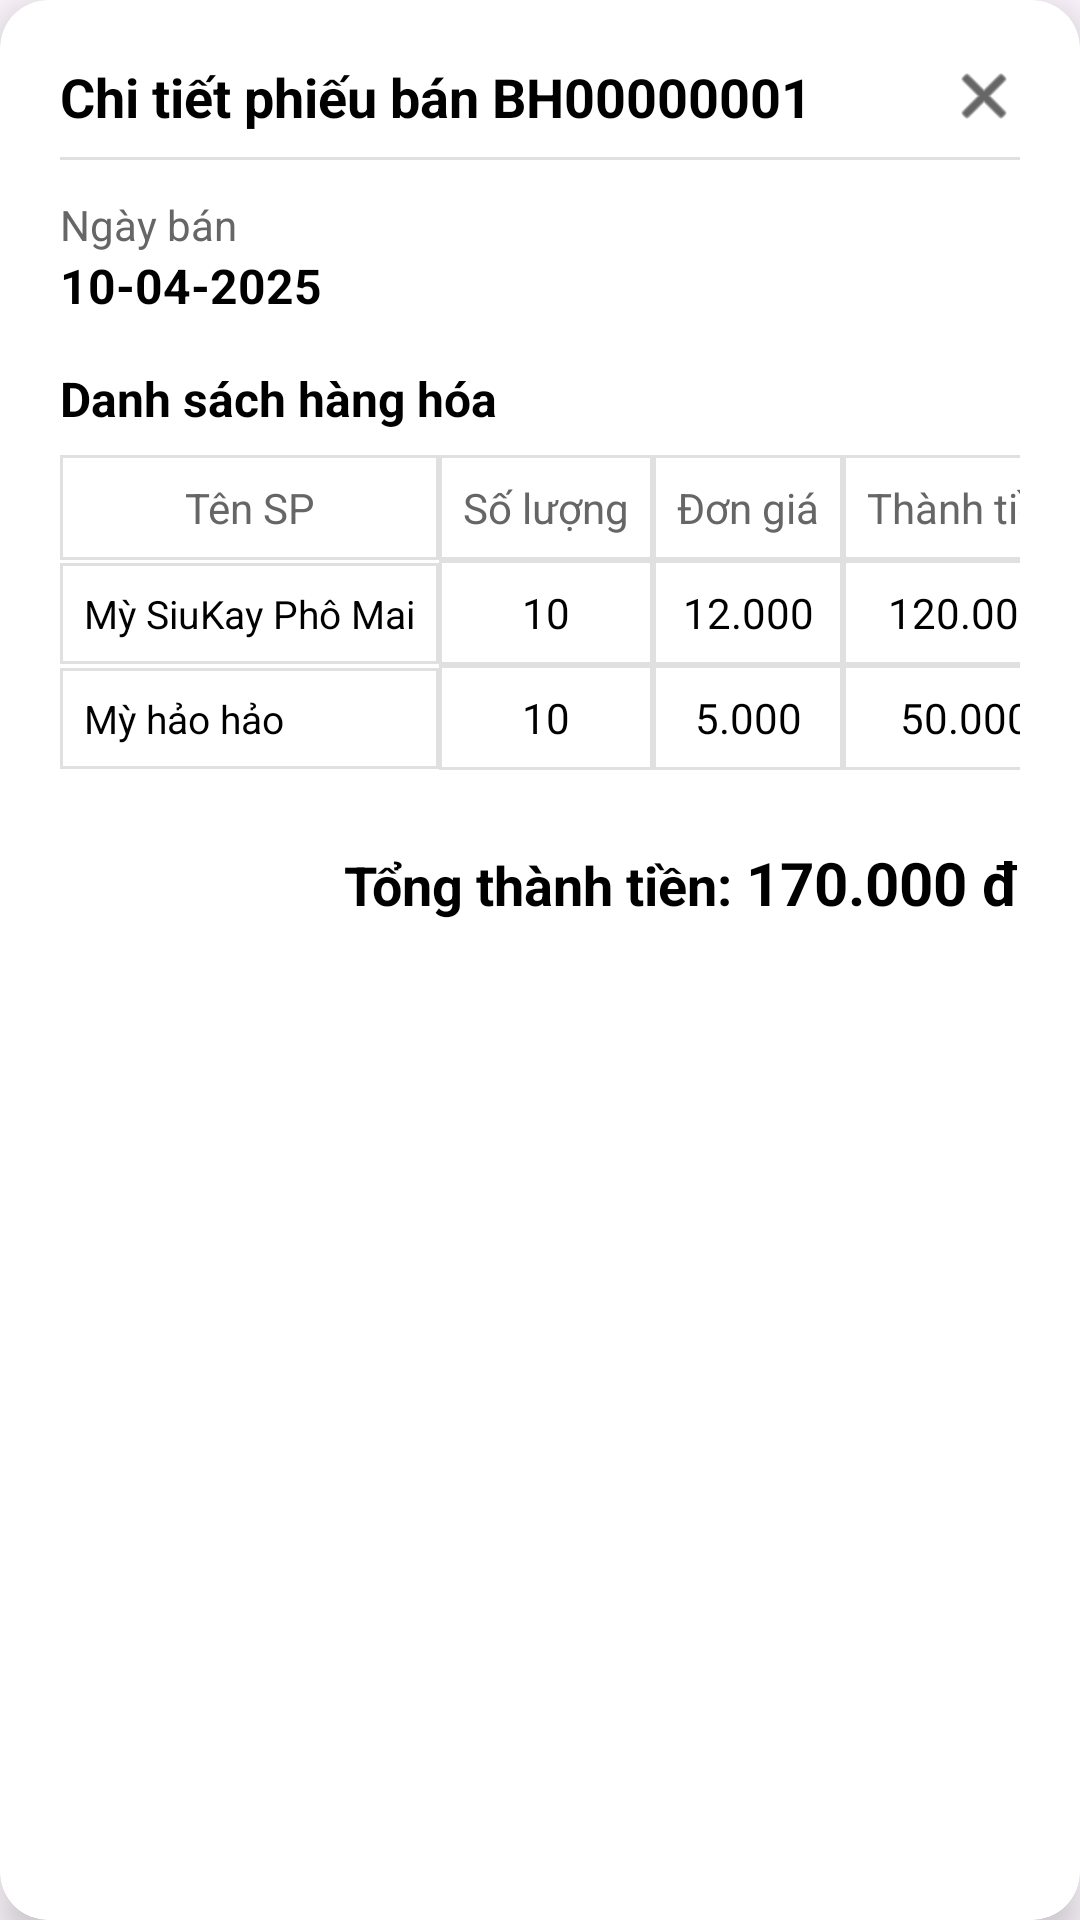

Point at icon controls on the screen. Image size 1080px×1920px, points as (x,y).
close clear cancel: (984,96)
